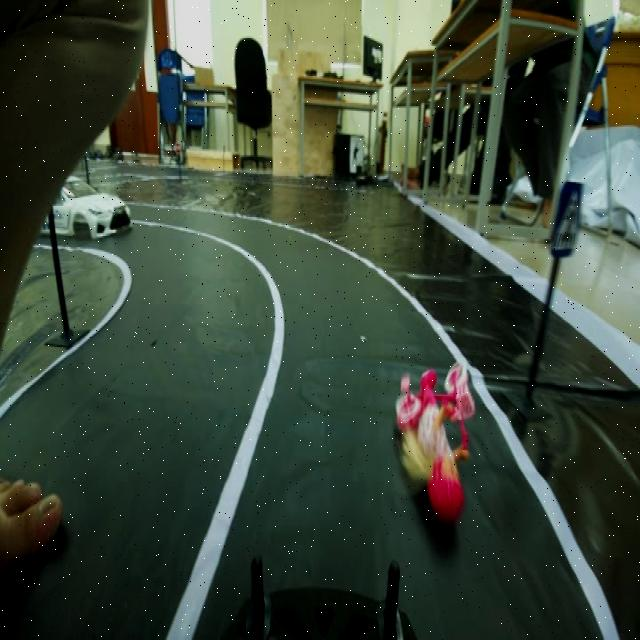crosswalk: (551, 175, 587, 272)
pedestrian: (382, 372, 483, 504)
